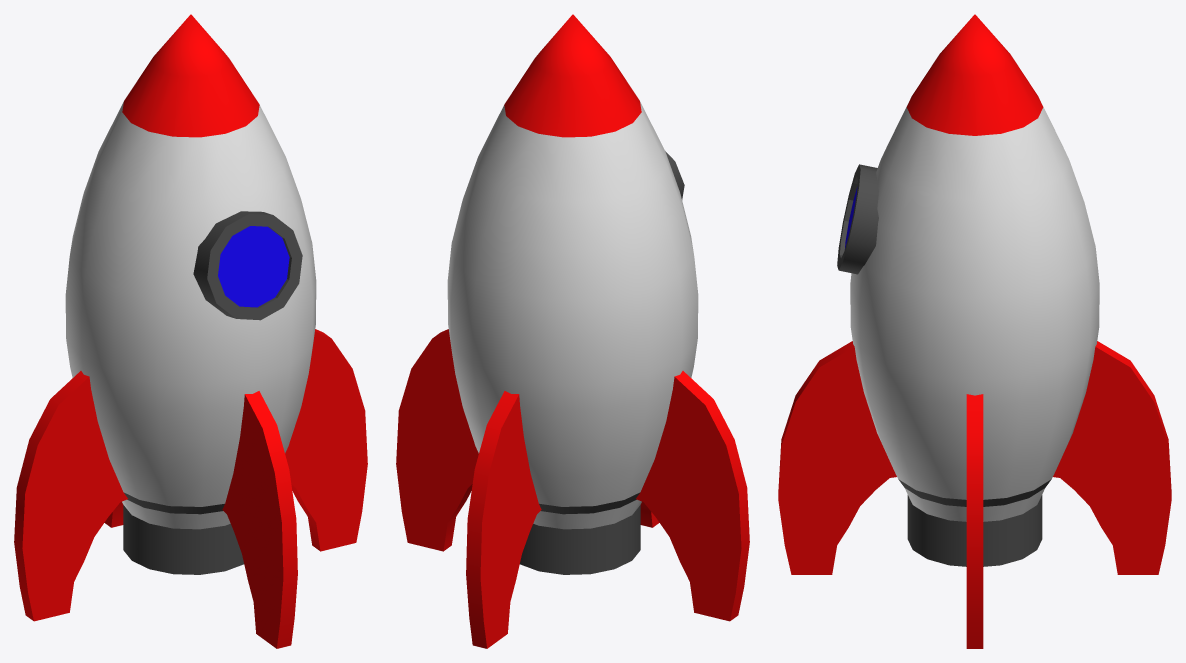
The model's file is Rocket.fbx.
The picture shows the model from 3 angles, left to right: view 1: azimuth 30°, elevation 25°; view 2: azimuth 150°, elevation 25°; view 3: azimuth 270°, elevation 25°; orthographic projection.
Parts seen in each view (by area): view 1: Rocket; view 2: Rocket; view 3: Rocket.
Part boxes in pixels (box(x1,y1,x2,y2)): Rocket: box(14, 14, 367, 648); Rocket: box(396, 14, 749, 648); Rocket: box(778, 14, 1171, 648).
Bounding box in the file's own units: 47.68 × 74.55 × 47.68.
